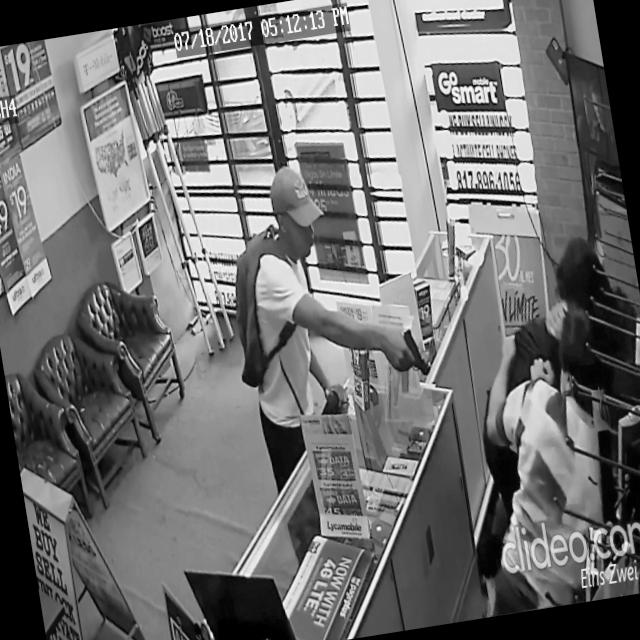gun: (402, 324, 432, 382)
person: (447, 296, 640, 616), (511, 224, 640, 604), (462, 288, 634, 556)
person with a gun: (211, 147, 445, 496)
